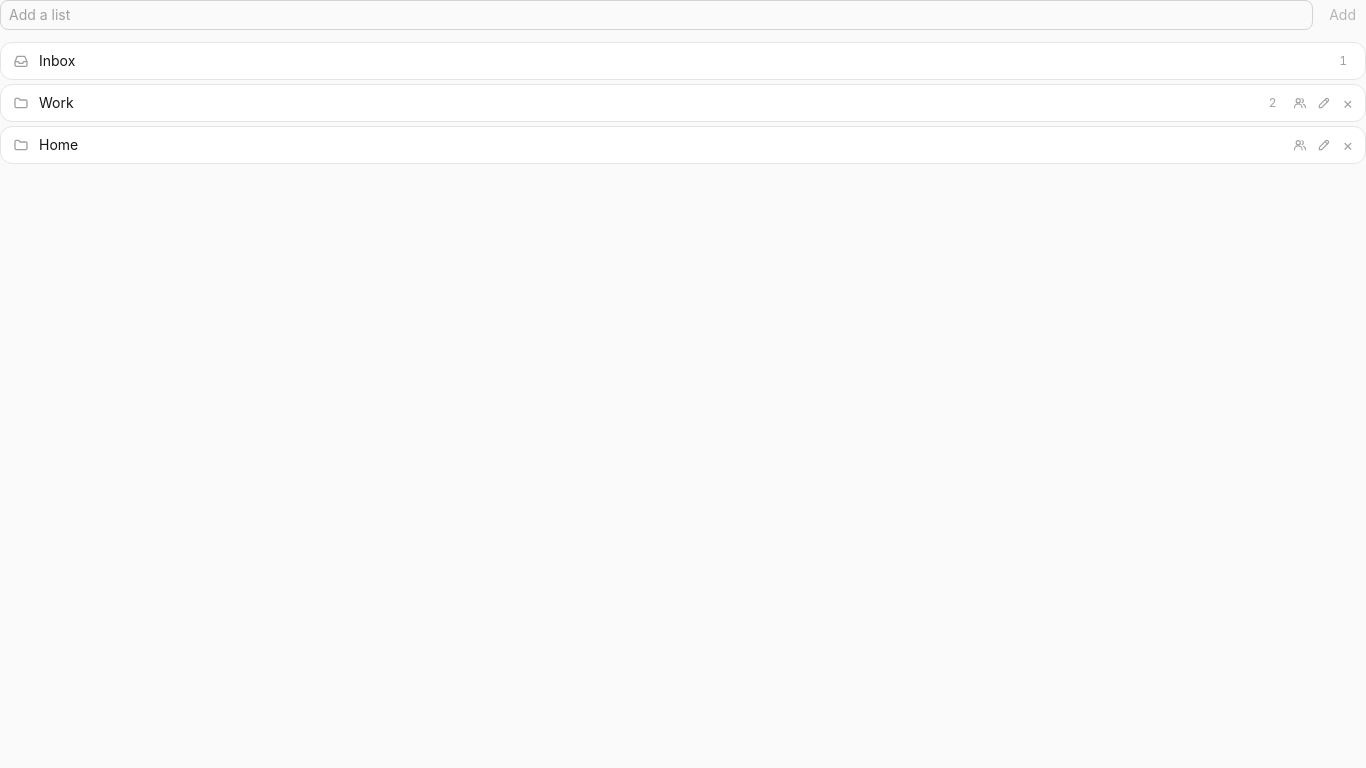
Scenario: sharing a list › opens a sheet for it from a button beside each list of the account’s own (LST-28)
The width and height of the screenshot is (1366, 768).
Click the button named "Share the list \"Work\"" at [1300, 103], box top-left (1288, 91), bottom-right (1312, 115)
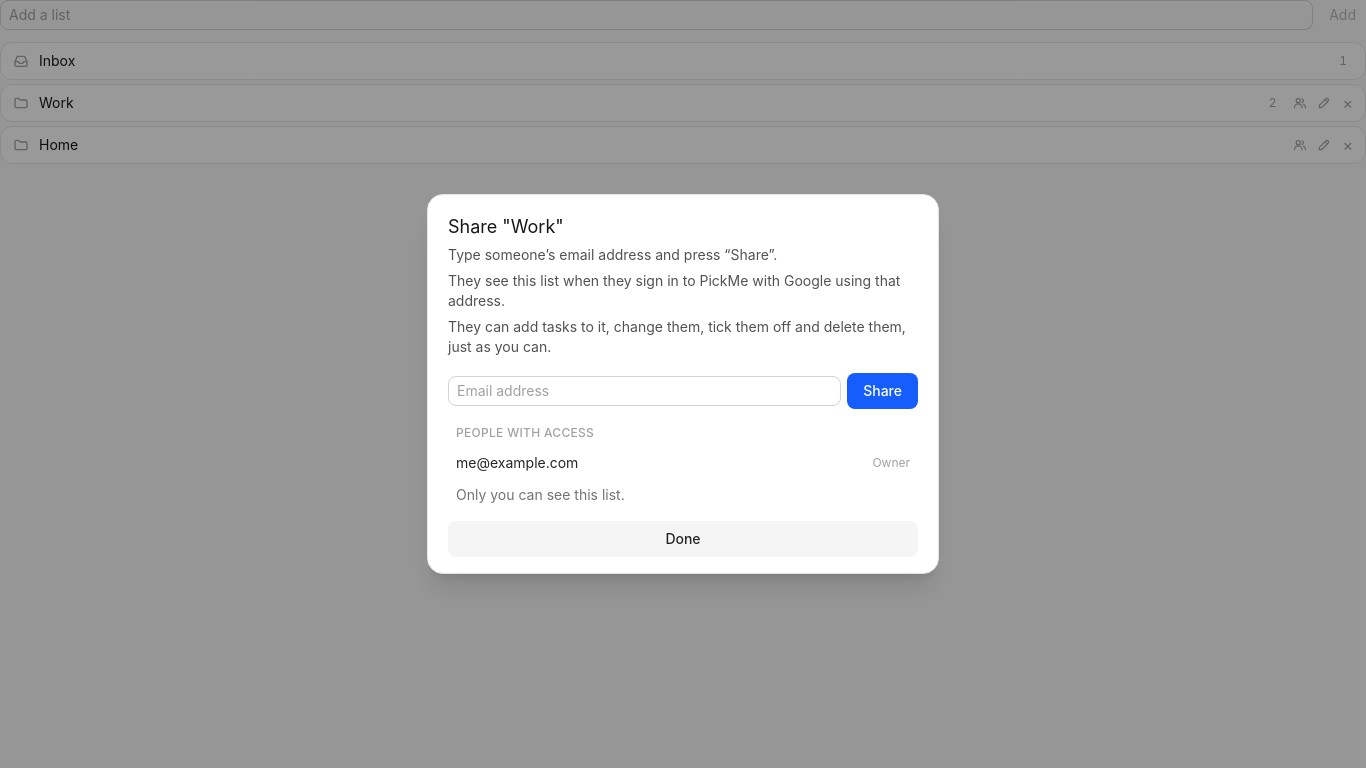
Expected: the dialog "Share \"Work\"" shows "Only you can see this list.", top-left (456, 486), bottom-right (625, 503)
Expected: the dialog "Share \"Work\"" shows "me@example.com", top-left (456, 454), bottom-right (578, 471)
